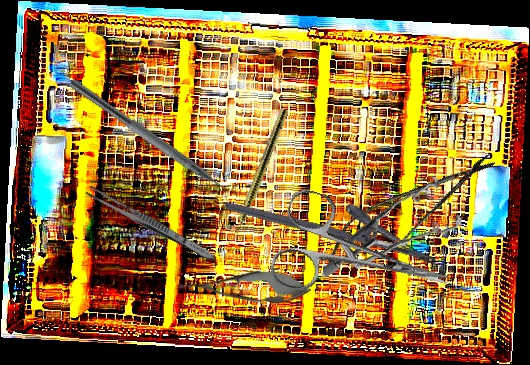Chopper: (60, 78, 242, 211)
Dressing Forceps: (82, 183, 219, 265)
Handpiece: (226, 107, 290, 248)
Iris Scissors: (266, 185, 461, 332)
Micro Scissor: (311, 136, 505, 286), (176, 268, 312, 306)
Needle Holder: (223, 172, 446, 267)
Speculum: (322, 170, 464, 285)
